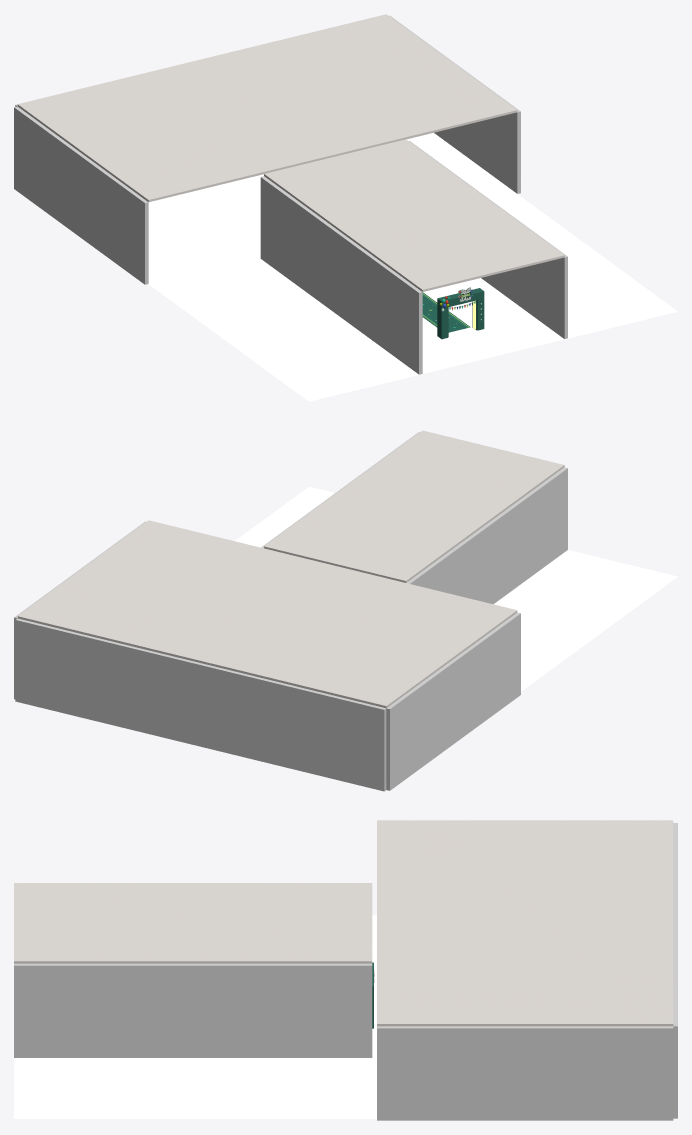
The model's file is awqaf-eid.glb.
The picture shows the model from 3 angles, top to bottom: view 1: azimuth 30°, elevation 25°; view 2: azimuth 150°, elevation 25°; view 3: azimuth 270°, elevation 25°; orthographic projection. The views are drawn at different scales.
Parts seen in each view (by area): view 1: EID_Hall_Ceiling, EID_Floor, EID_Corr_Ceiling, EID_Corr_Wall_W, EID_Hall_Wall_W, EID_Corr_Wall_E, EID_Hall_Wall_E, EID_Carpet; view 2: EID_Hall_Ceiling, EID_Hall_Wall_N, EID_Corr_Ceiling, EID_Floor, EID_Hall_Wall_W, EID_Corr_Wall_W; view 3: EID_Hall_Ceiling, EID_Corr_Wall_E, EID_Corr_Ceiling, EID_Hall_Wall_E, EID_Floor, EID_Hall_Wall_N.
Boxes of the visible parts, bbox=[...] form: EID_Hall_Ceiling: bbox=[17, 14, 517, 202]; EID_Floor: bbox=[148, 133, 677, 401]; EID_Corr_Ceiling: bbox=[264, 139, 564, 291]; EID_Corr_Wall_W: bbox=[260, 176, 422, 374]; EID_Hall_Wall_W: bbox=[14, 106, 148, 284]; EID_Corr_Wall_E: bbox=[409, 140, 567, 338]; EID_Hall_Wall_E: bbox=[389, 15, 520, 193]; EID_Carpet: bbox=[422, 292, 470, 332]; EID_Hall_Ceiling: bbox=[17, 520, 517, 708]; EID_Hall_Wall_N: bbox=[15, 618, 386, 791]; EID_Corr_Ceiling: bbox=[264, 430, 564, 582]; EID_Floor: bbox=[235, 486, 677, 691]; EID_Hall_Wall_W: bbox=[386, 612, 520, 790]; EID_Corr_Wall_W: bbox=[406, 467, 567, 604]; EID_Hall_Ceiling: bbox=[377, 820, 673, 1026]; EID_Corr_Wall_E: bbox=[14, 963, 372, 1057]; EID_Corr_Ceiling: bbox=[14, 883, 372, 963]; EID_Hall_Wall_E: bbox=[377, 1026, 673, 1120]; EID_Floor: bbox=[14, 915, 376, 1118]; EID_Hall_Wall_N: bbox=[673, 823, 677, 1118].
Size of the model in its own units: 26.5 by 5.67 by 35.85.
12 materials, 12 textured.
